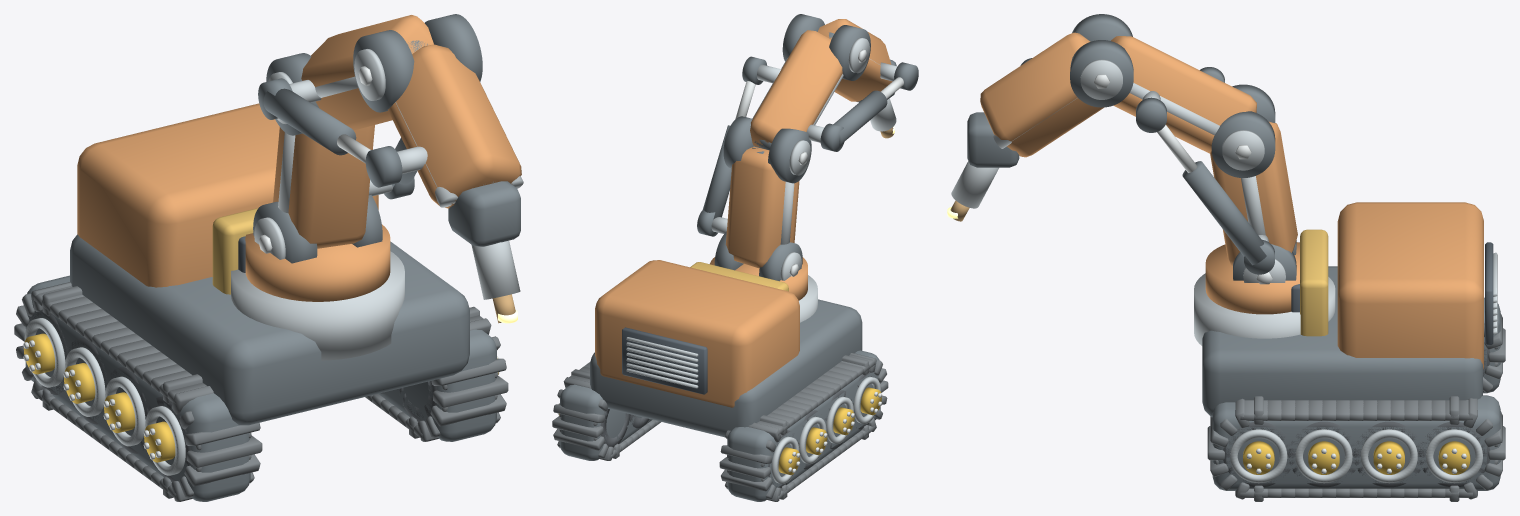
The model's file is forge_ultra.glb.
The picture shows the model from 3 angles, left to right: view 1: azimuth 30°, elevation 25°; view 2: azimuth 150°, elevation 25°; view 3: azimuth 270°, elevation 25°; orthographic projection. The views are drawn at different scales.
Parts seen in each view (by area): view 1: Frame_frame, PowerPack_orange, LeftTrack_tread, ArmLink2_orange, SlewBearing_steel, ArmLink0_orange, LeftTrack_frame, Turret_orange, ArmLink1_orange, LeftTrack_steel, ArmJoint2_frame, RightTrack_tread (+15 smaller); view 2: PowerPack_orange, Frame_frame, LeftTrack_tread, ArmLink0_orange, ArmLink1_orange, LeftTrack_frame, RearCooling_black, RightTrack_frame, RightTrack_tread, ArmJoint1_frame, Hydraulics_frame, LeftTrack_steel (+18 smaller); view 3: PowerPack_orange, Frame_frame, RightTrack_tread, RightTrack_frame, ArmLink2_orange, ArmLink1_orange, RightTrack_steel, ArmLink0_orange, SlewBearing_steel, Turret_orange, ArmJoint2_frame, RightTrack_paint (+16 smaller).
Part boxes in pixels (<box>): Frame_frame: <box>70,234,469,425</box>; PowerPack_orange: <box>77,103,378,287</box>; LeftTrack_tread: <box>14,282,262,501</box>; ArmLink2_orange: <box>388,44,521,208</box>; SlewBearing_steel: <box>231,251,404,360</box>; ArmLink0_orange: <box>273,125,374,248</box>; LeftTrack_frame: <box>25,275,250,501</box>; Turret_orange: <box>245,224,390,301</box>; ArmLink1_orange: <box>301,15,433,130</box>; LeftTrack_steel: <box>24,318,185,475</box>; ArmJoint2_frame: <box>353,14,482,112</box>; RightTrack_tread: <box>365,306,508,441</box>; PowerPack_orange: <box>595,260,799,407</box>; Frame_frame: <box>590,299,862,437</box>; LeftTrack_tread: <box>719,353,888,501</box>; ArmLink0_orange: <box>725,146,799,268</box>; ArmLink1_orange: <box>750,30,842,147</box>; LeftTrack_frame: <box>727,350,880,501</box>; RearCooling_black: <box>622,327,707,394</box>; RightTrack_frame: <box>560,384,652,460</box>; RightTrack_tread: <box>552,362,660,460</box>; ArmJoint1_frame: <box>723,116,811,183</box>; Hydraulics_frame: <box>702,90,887,219</box>; LeftTrack_steel: <box>771,376,881,483</box>; PowerPack_orange: <box>1337,202,1483,369</box>; Frame_frame: <box>1202,266,1482,417</box>; RightTrack_tread: <box>1207,396,1505,501</box>; RightTrack_frame: <box>1212,395,1500,490</box>; ArmLink2_orange: <box>980,32,1104,157</box>; ArmLink1_orange: <box>1111,36,1256,153</box>; RightTrack_steel: <box>1230,429,1482,483</box>; ArmLink0_orange: <box>1210,121,1297,265</box>; SlewBearing_steel: <box>1194,273,1335,345</box>; Turret_orange: <box>1205,242,1299,314</box>; ArmJoint2_frame: <box>1070,14,1133,107</box>; RightTrack_paint: <box>1243,441,1470,474</box>.
Size of the model in its own units: 1.36 by 1.91 by 2.37.
